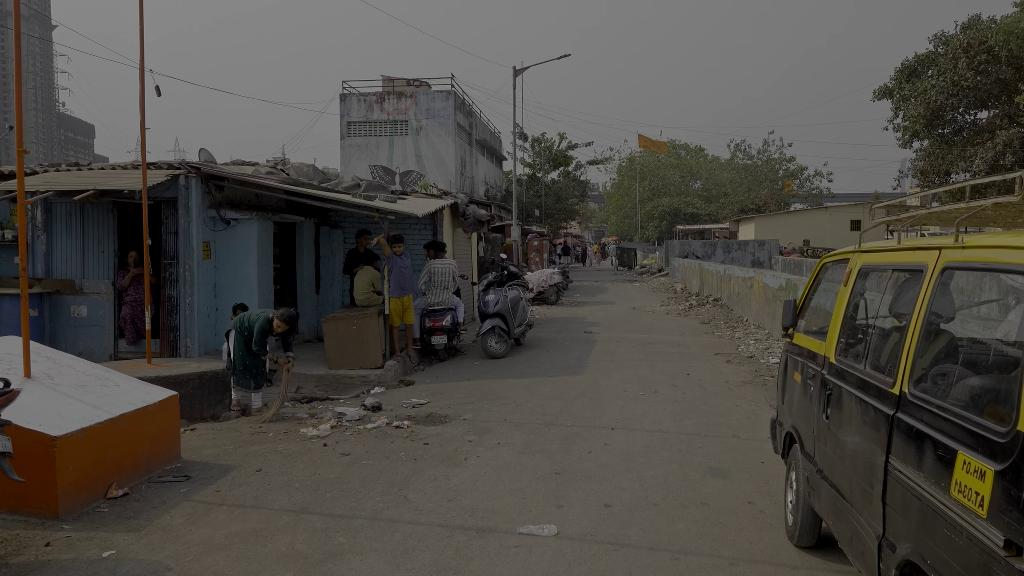dustbin: (613, 246, 638, 271)
garbage: (305, 393, 383, 443), (514, 521, 558, 540), (334, 403, 371, 423), (306, 416, 338, 437), (358, 390, 380, 414)
